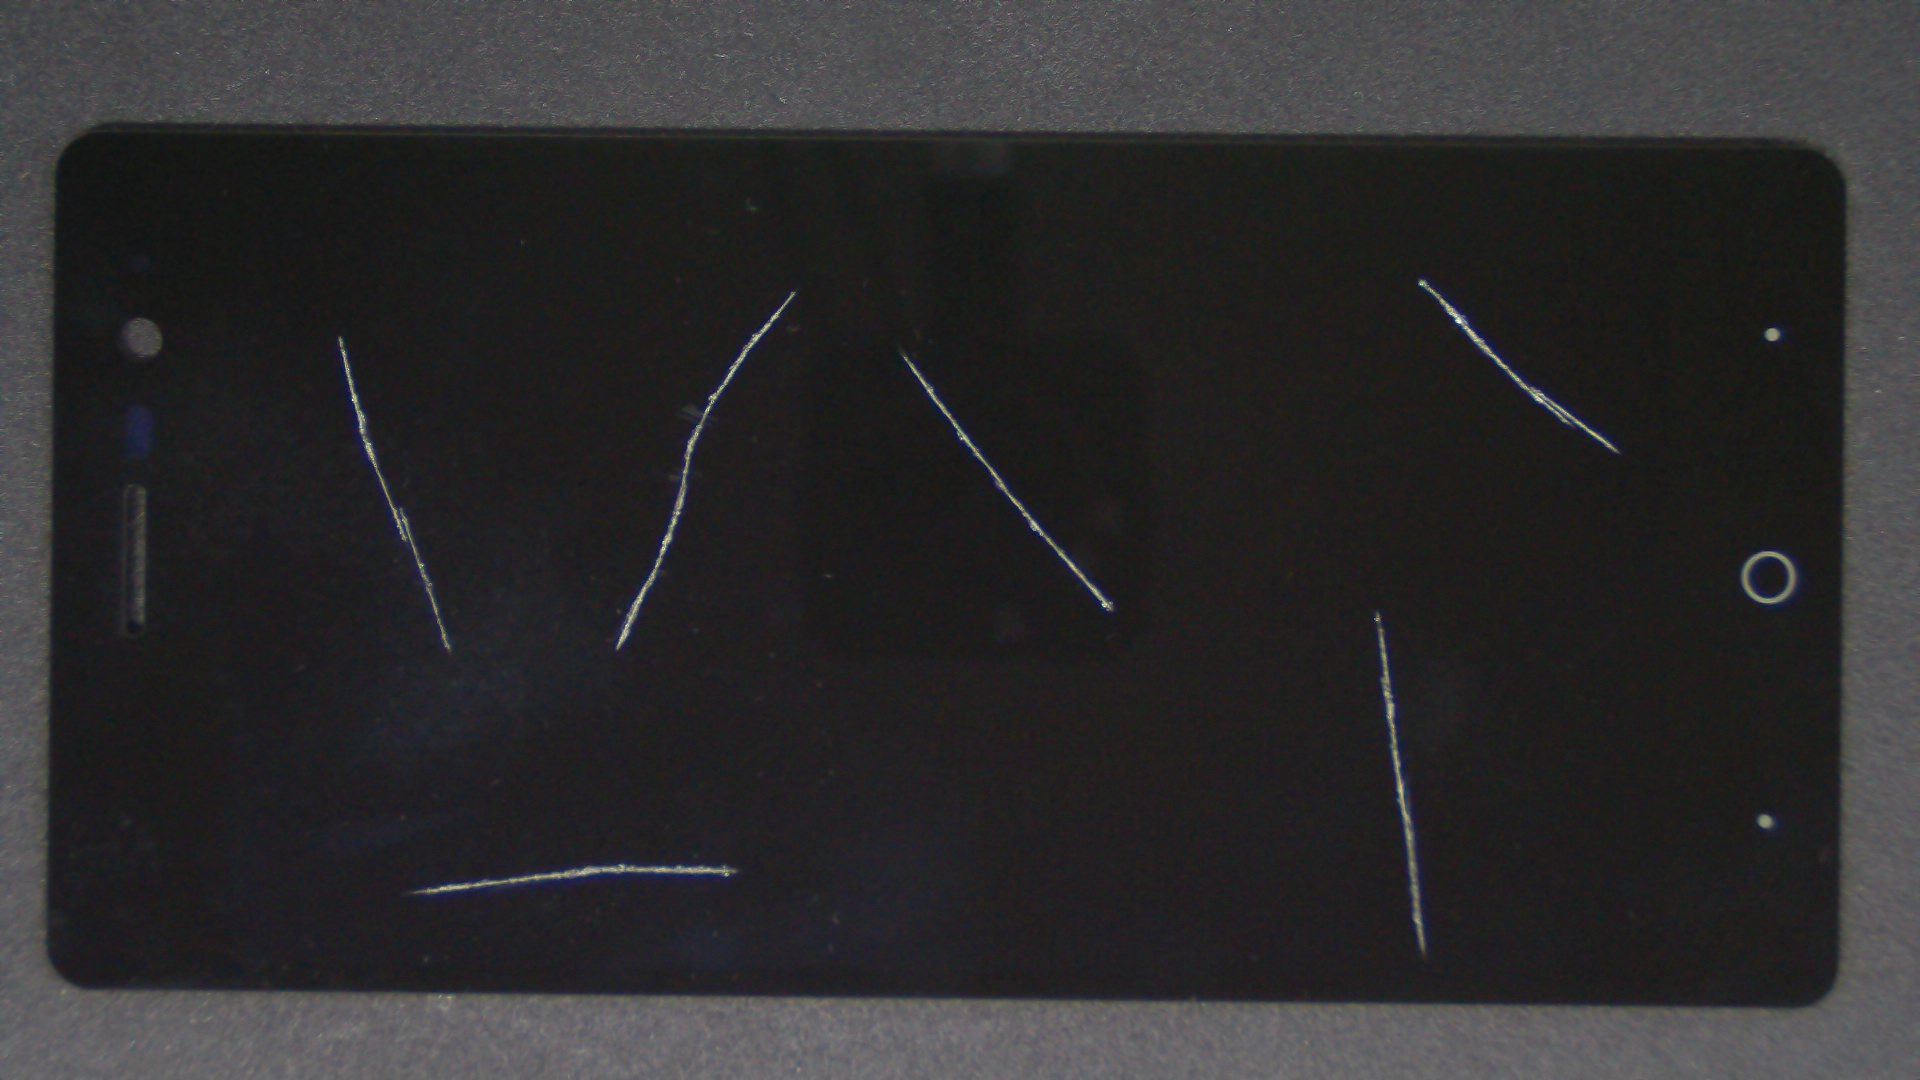defect: (613, 290, 796, 651), (899, 352, 1116, 612), (1416, 277, 1622, 455), (338, 334, 451, 654), (1371, 609, 1428, 957), (404, 862, 742, 895)
